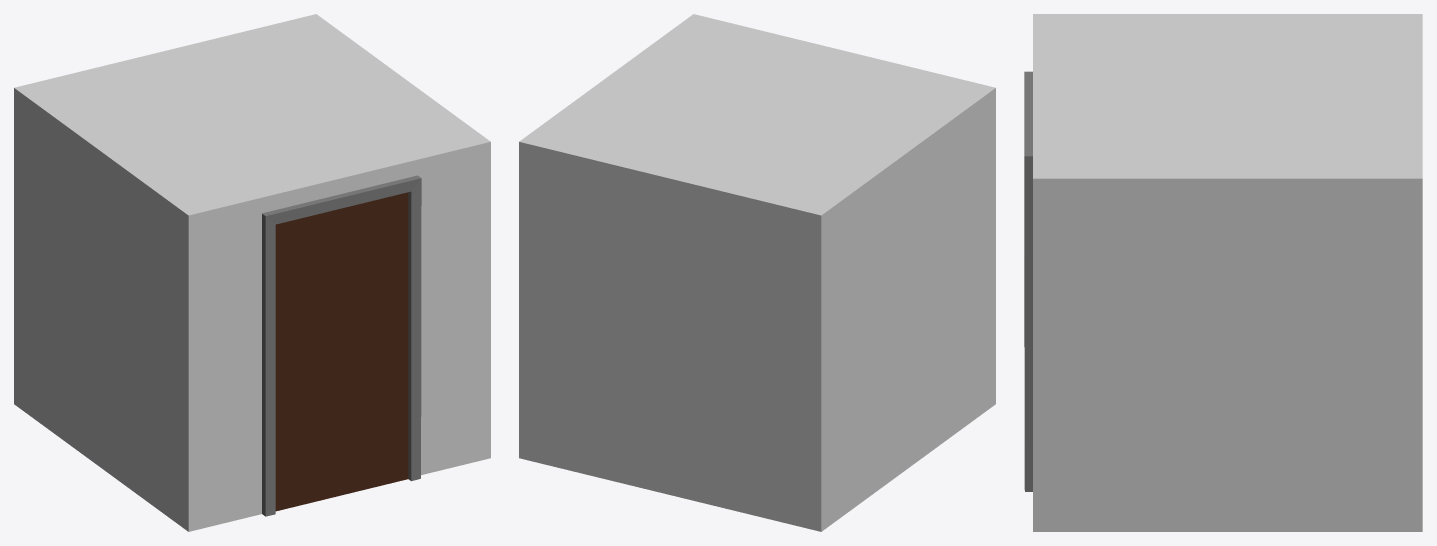
The model's file is door_01.fbx.
The picture shows the model from 3 angles, left to right: view 1: azimuth 30°, elevation 25°; view 2: azimuth 150°, elevation 25°; view 3: azimuth 270°, elevation 25°; orthographic projection. The views are drawn at different scales.
Parts seen in each view (by area): view 1: Door_01; view 2: Door_01; view 3: Door_01.
Part boxes in pixels (box(x1,y1,x2,y2)): Door_01: box(14, 14, 490, 531); Door_01: box(519, 14, 995, 531); Door_01: box(1024, 14, 1422, 531).
Bounding box in the file's own units: 200 × 200 × 204.
